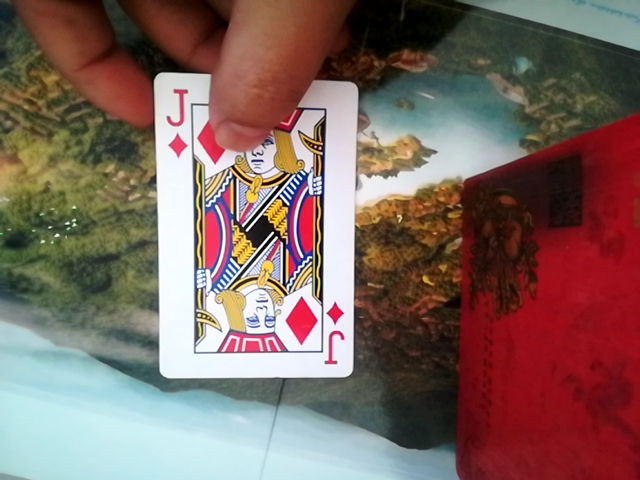fk j: (156, 64, 361, 382)
